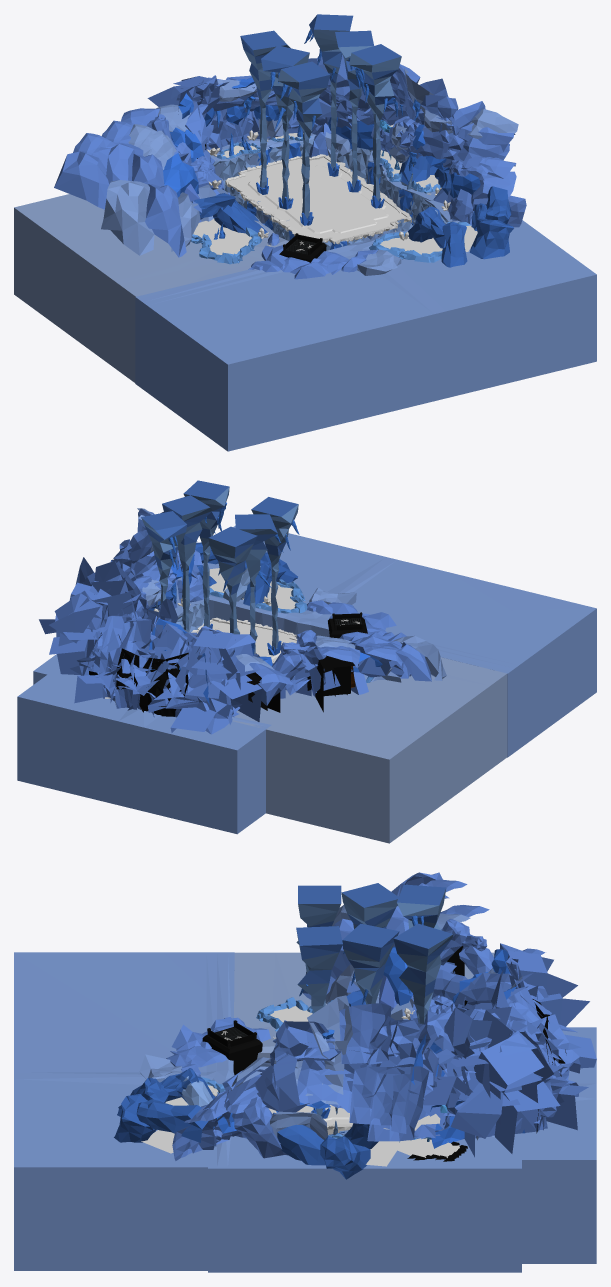
The model's file is Level2_BossRoom.fbx.
The picture shows the model from 3 angles, top to bottom: view 1: azimuth 30°, elevation 25°; view 2: azimuth 150°, elevation 25°; view 3: azimuth 270°, elevation 25°; orthographic projection. The views are drawn at different scales.
Visible parts, largest first — view 1: Walls, Ice_Blocks, Central_Platform, Platforms_Borders, Rock_Borders, IceColumn, IceColumn3, Central_Water, IceColumn5, IceColumn1, IceColumn2, IceColumn4 (+5 smaller); view 2: Walls, Ice_Blocks, IceColumn2, IceColumn, IceColumn4, IceColumn5, IceColumn3, IceColumn1, Rock_Borders, StormTroopersPlatform, Lateral_Water2, Central_Water (+1 smaller); view 3: Walls, Ice_Blocks, IceColumn5, IceColumn3, IceColumn4, IceColumn1, IceColumn2, StormTroopersPlatform, IceColumn, Lateral_Water6, Rock_Borders, Lateral_Water2.
Boxes of the visible parts, x1,y1,x2,y2 form: Walls: (14, 54, 596, 451); Ice_Blocks: (147, 114, 513, 275); Central_Platform: (247, 165, 388, 233); Platforms_Borders: (213, 139, 448, 250); Rock_Borders: (190, 119, 471, 272); IceColumn: (278, 61, 330, 225); IceColumn3: (349, 44, 401, 208); Central_Water: (229, 157, 406, 240); IceColumn5: (304, 14, 353, 176); IceColumn1: (261, 46, 309, 209); IceColumn2: (240, 30, 290, 194); IceColumn4: (335, 30, 373, 192); Walls: (17, 508, 596, 843); Ice_Blocks: (149, 542, 356, 705); IceColumn2: (208, 526, 257, 634); IceColumn: (251, 497, 299, 655); IceColumn4: (162, 495, 212, 631); IceColumn5: (141, 511, 187, 606); IceColumn3: (183, 480, 229, 628); IceColumn1: (235, 514, 281, 653); Rock_Borders: (209, 579, 374, 682); StormTroopersPlatform: (328, 612, 367, 638); Lateral_Water2: (209, 568, 297, 609); Central_Water: (197, 620, 296, 663); Walls: (14, 872, 596, 1272); Ice_Blocks: (114, 919, 493, 1179); IceColumn5: (393, 923, 453, 1024); IceColumn3: (296, 926, 342, 1118); IceColumn4: (342, 923, 399, 1004); IceColumn1: (341, 883, 400, 928); IceColumn2: (397, 884, 446, 1023); StormTroopersPlatform: (202, 1020, 262, 1074); IceColumn: (296, 885, 341, 944); Lateral_Water6: (366, 1138, 459, 1166); Rock_Borders: (166, 997, 448, 1142); Lateral_Water2: (141, 1085, 218, 1153).
Size of the model in its own units: 108 by 59.74 by 112.
